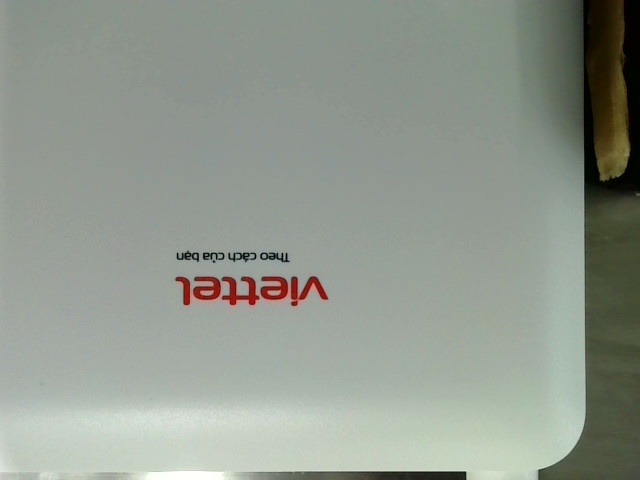AY_Viettel: (165, 246, 330, 311)
